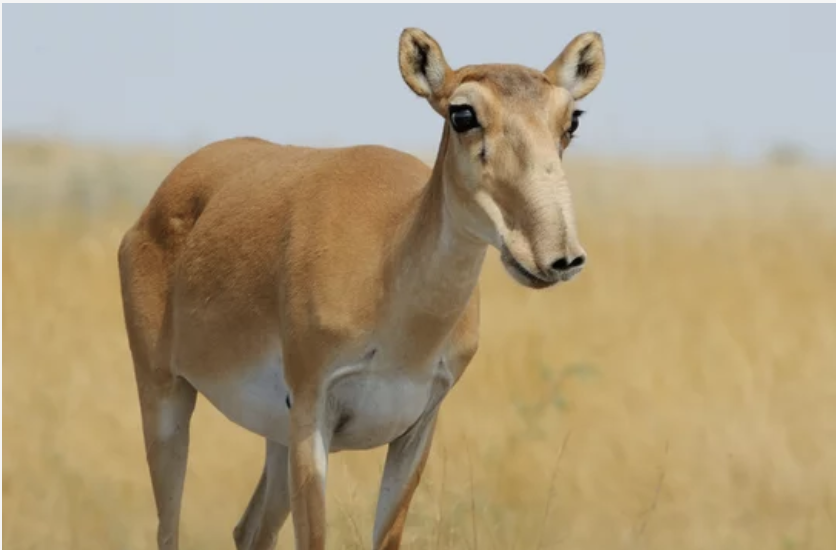saiga: (89, 29, 585, 533)
